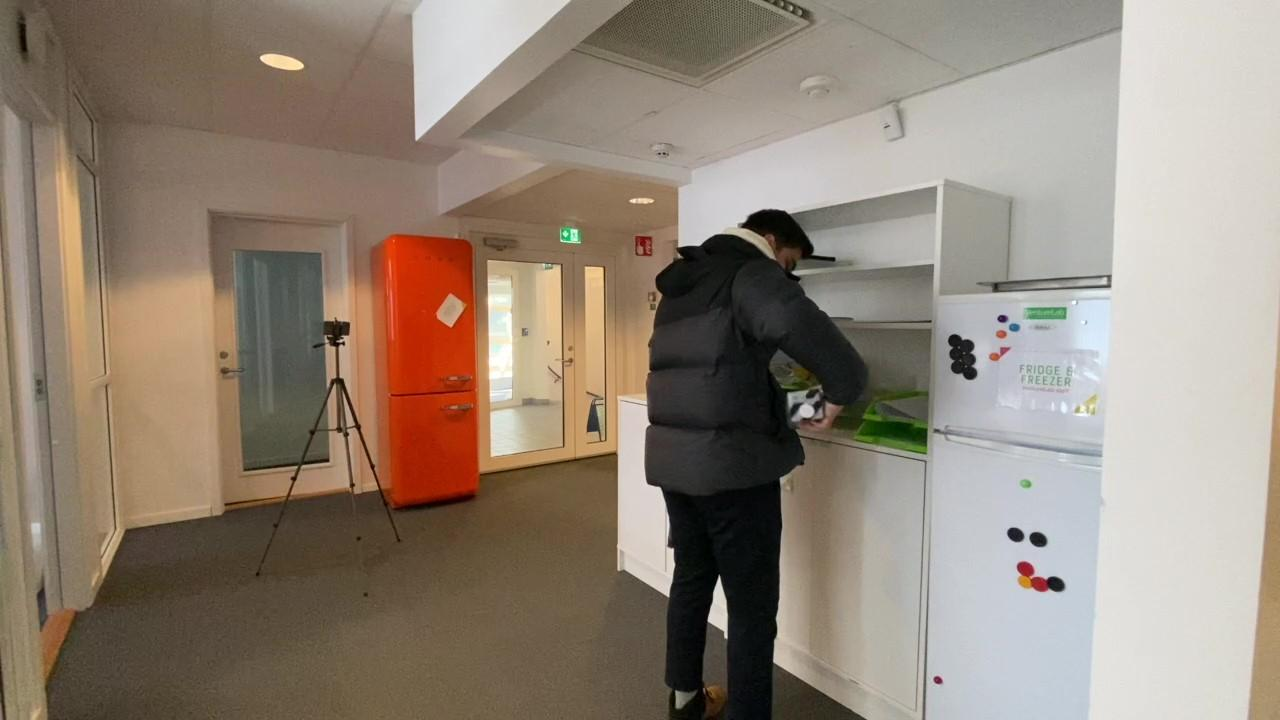shoplifting: (649, 207, 865, 719)
